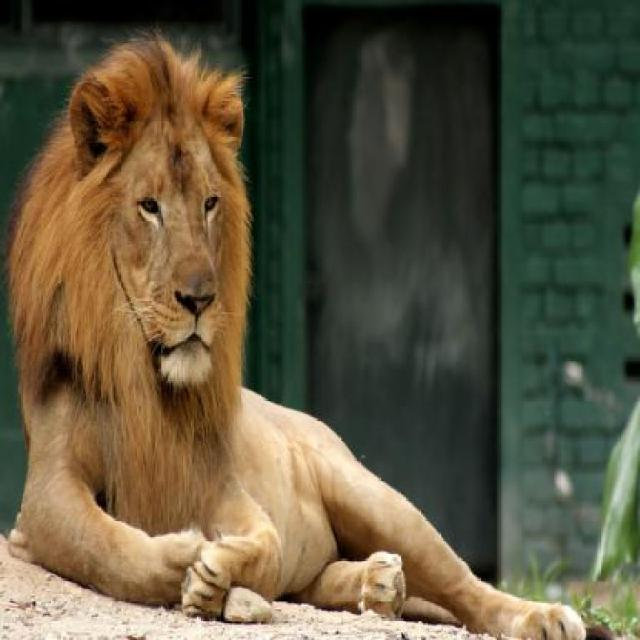Lion: (0, 32, 603, 638)
